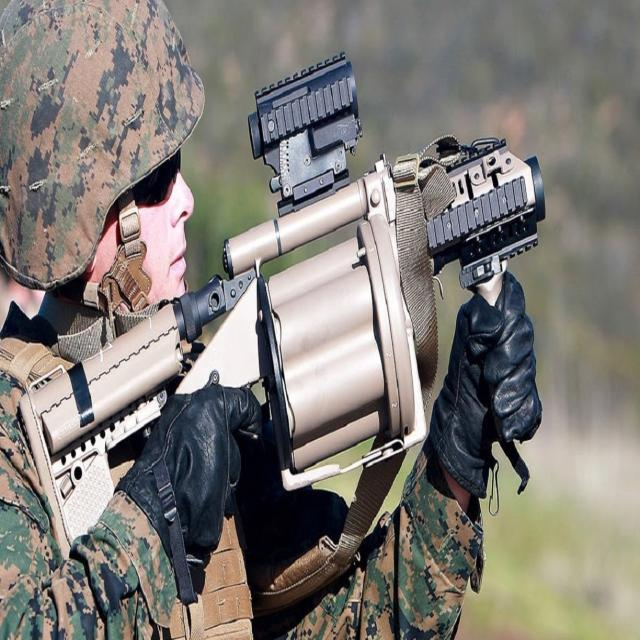Weapon: (22, 54, 544, 611)
